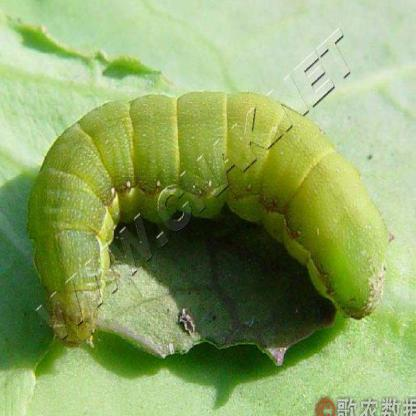armyworm: (27, 89, 392, 348)
